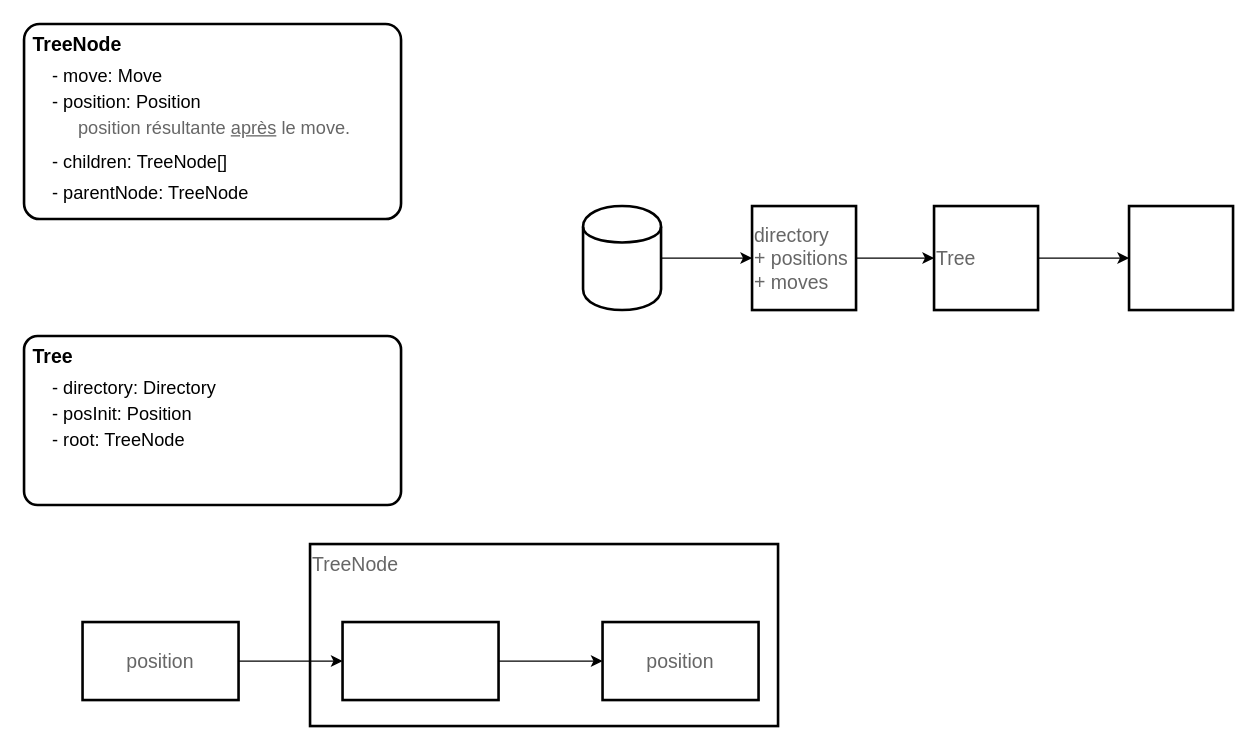
The diagram is 1256 pixels wide and 749 high, and some of its shapes have lost their labels. The shapes that lost their labels are listed below. From the top down, each one's centre as x and y in pixels, then its label:
At point 621,257: "DB".
At point 1180,257: "UI".
At point 420,660: "move".
